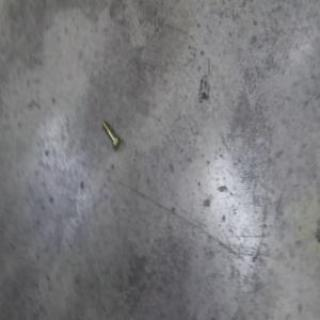Bolttrack_idkeyframe: (98, 117, 120, 150)
